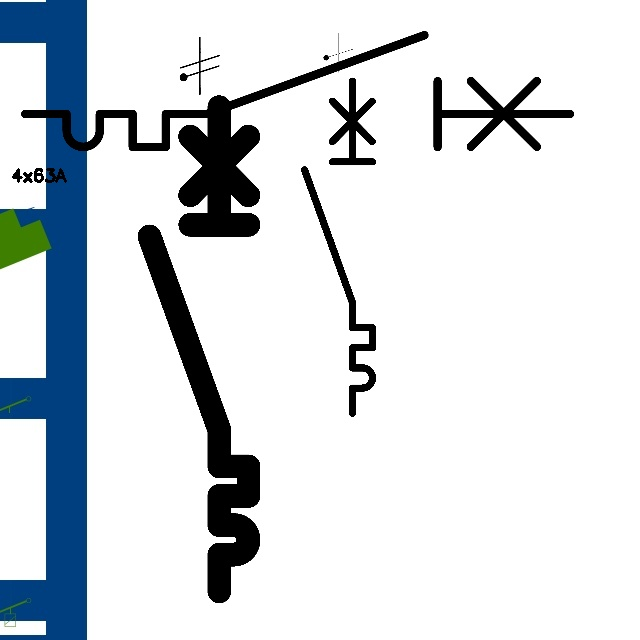interruptor_termomagnetico: (11, 21, 584, 161), (137, 94, 261, 603), (296, 72, 381, 421)
